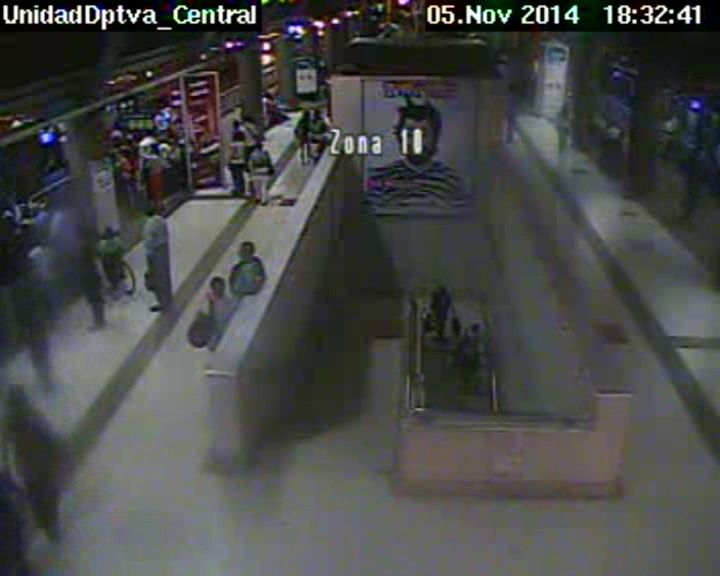person: (11, 386, 29, 407), (237, 240, 255, 256), (210, 275, 224, 293), (23, 264, 37, 280), (57, 192, 69, 207), (79, 223, 91, 237), (102, 226, 115, 238), (693, 145, 705, 158), (145, 203, 156, 214), (17, 193, 28, 204), (34, 231, 44, 242), (168, 138, 179, 148), (112, 138, 123, 148), (123, 147, 133, 157), (147, 145, 157, 155), (312, 110, 323, 118), (438, 282, 447, 291), (253, 139, 262, 148), (142, 129, 151, 138), (507, 85, 516, 94), (471, 322, 479, 332), (560, 103, 568, 112), (233, 118, 241, 126), (156, 108, 164, 116), (609, 122, 617, 130), (303, 110, 310, 119), (233, 133, 241, 140), (260, 90, 266, 96)
